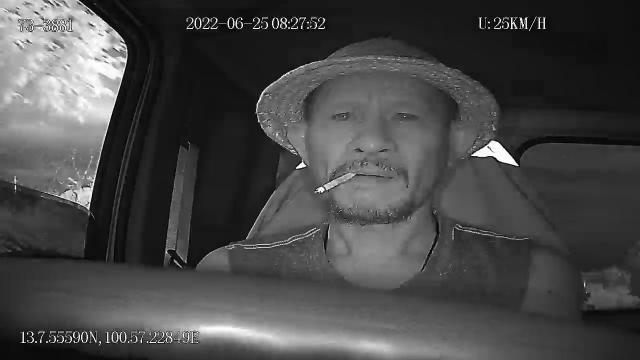SafeDriving: (383, 100, 426, 131), (324, 99, 362, 127)
Smoking: (315, 168, 357, 195)
